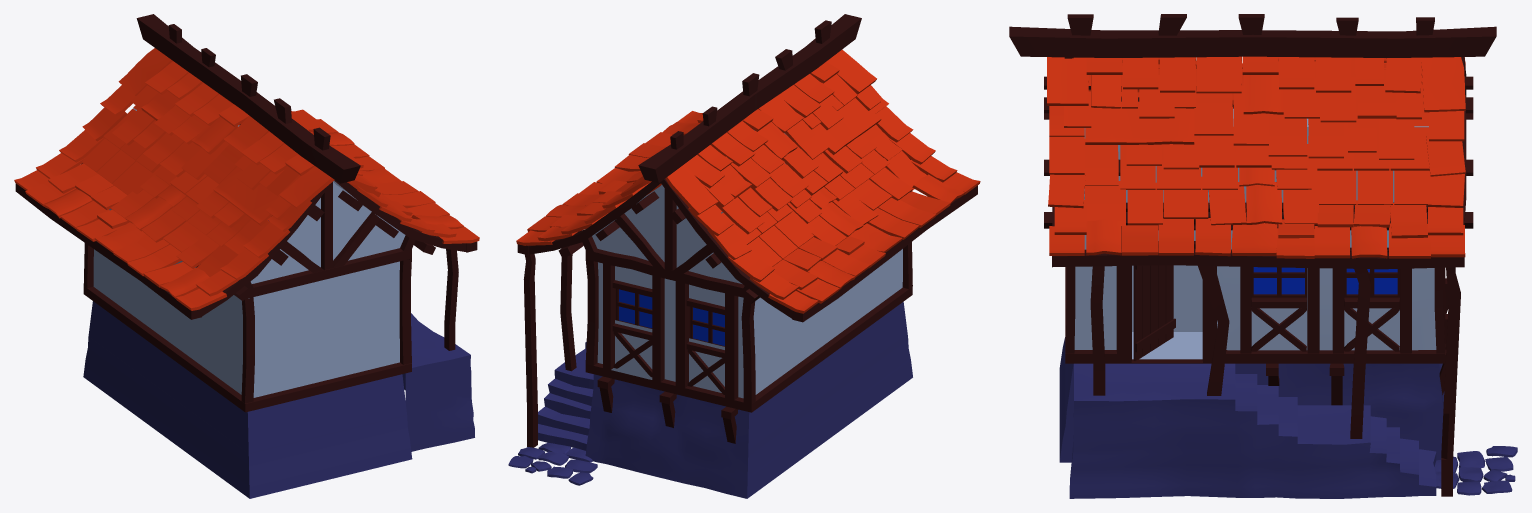
The model's file is House_02.fbx.
3 views of the same model, side by side, from view 1: azimuth 30°, elevation 25°; view 2: azimuth 150°, elevation 25°; view 3: azimuth 270°, elevation 25° (orthographic). The views are drawn at different scales.
Visible parts, largest first — view 1: House_02; view 2: House_02; view 3: House_02.
Boxes of the visible parts, box(x1,y1,x2,y2) form: House_02: box(14, 14, 479, 498); House_02: box(508, 14, 980, 498); House_02: box(1009, 14, 1517, 498).
Size of the model in its own units: 794 by 875 by 1004.
